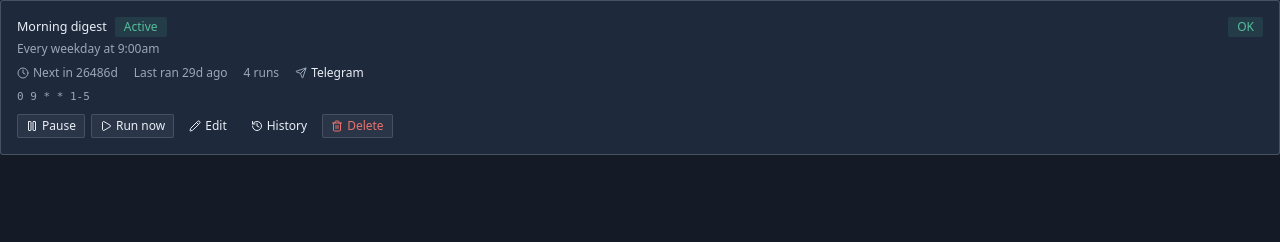
Test: JobCard run history disclosure › links the history toggle to its panel via aria-controls when open
The width and height of the screenshot is (1280, 242).
Click the button with aria-label "Toggle run history": (279, 126) [242,114,316,138]
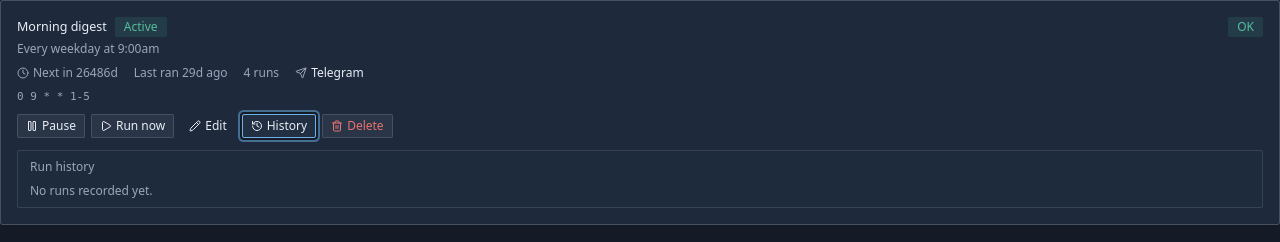
Now the button with aria-label "Toggle run history" is expanded, box [242,114,316,138]
